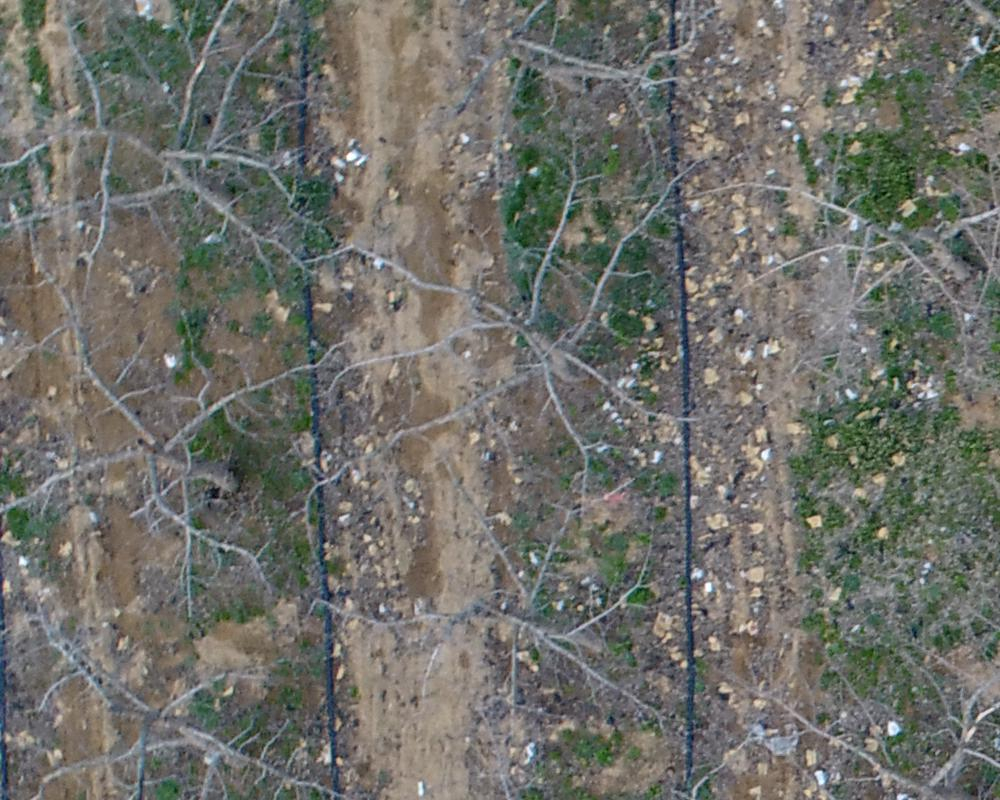apple: (310, 165, 715, 522), (10, 253, 345, 623), (319, 468, 690, 739), (10, 10, 342, 307), (10, 595, 362, 790), (692, 149, 990, 356), (419, 10, 725, 182)
